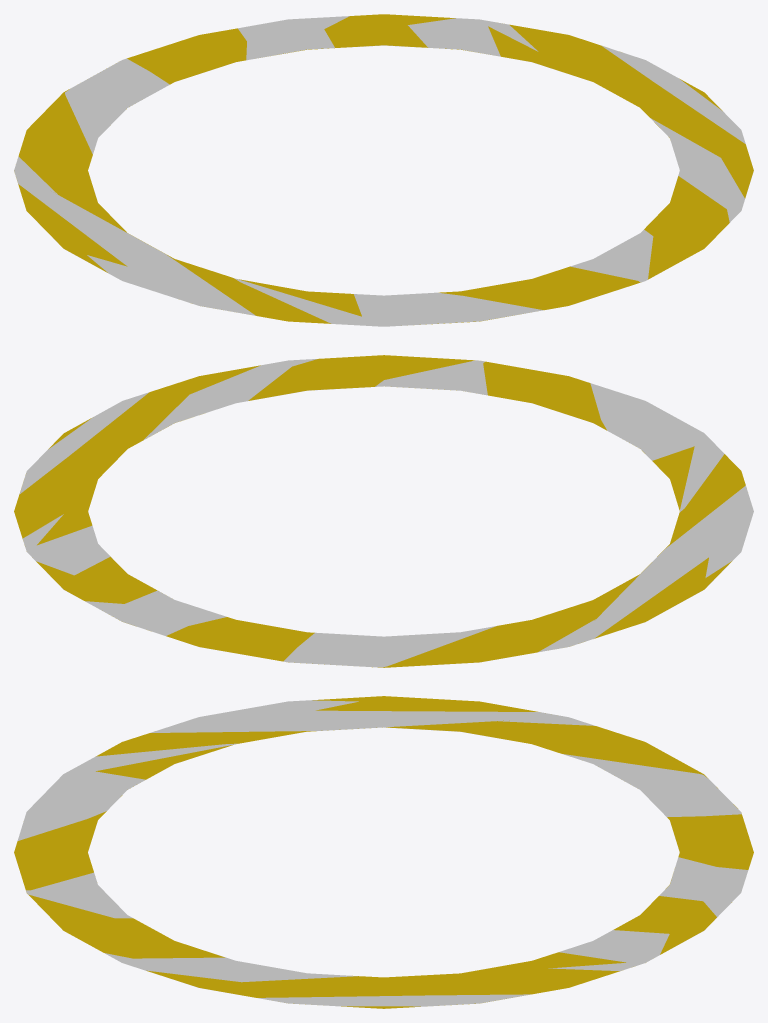
The model's file is original_4.obj.
3 views of the same model, one above another, from view 1: azimuth 30°, elevation 25°; view 2: azimuth 150°, elevation 25°; view 3: azimuth 270°, elevation 25° (orthographic).
Parts seen in each view (by area): view 1: #ID27; view 2: #ID27; view 3: #ID27.
Part boxes in pixels (box(x1,y1,x2,y2)): #ID27: box(14, 14, 753, 326); #ID27: box(14, 355, 753, 667); #ID27: box(14, 696, 753, 1008).
Bounding box in the file's own units: 0.806 × 0.000378 × 0.806.
